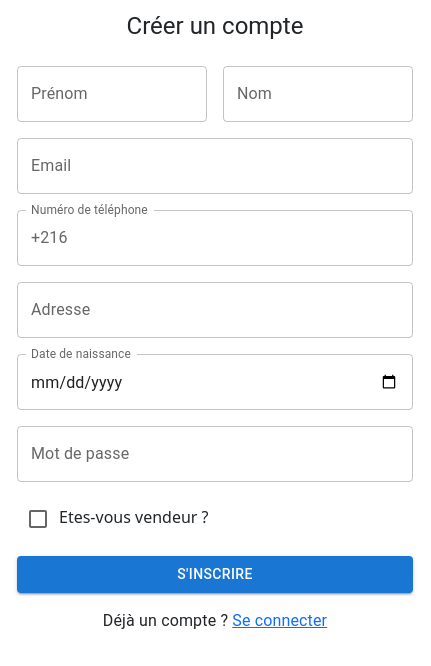
Test case: SignUp Component › affiche les erreurs de validation quand le formulaire est vide
Click the button "S'inscrire": [215, 574] box [17,556,413,592]
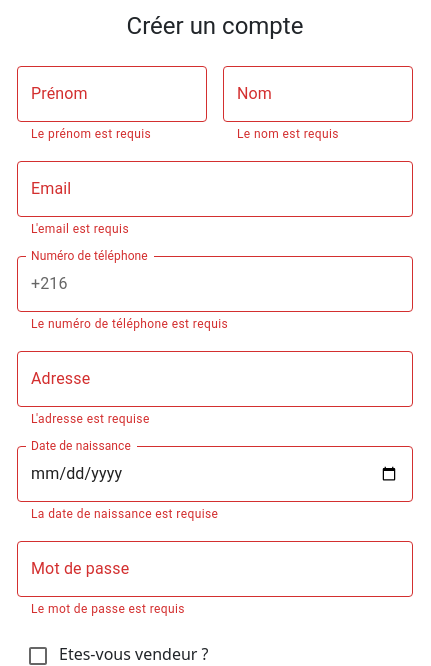
expect the text "Le prénom est requis" is shown: met, box [31,127,151,141]
expect the text "Le nom est requis" is shown: met, box [237,127,339,141]
expect the text "L'email est requis" is shown: met, box [31,222,129,236]
